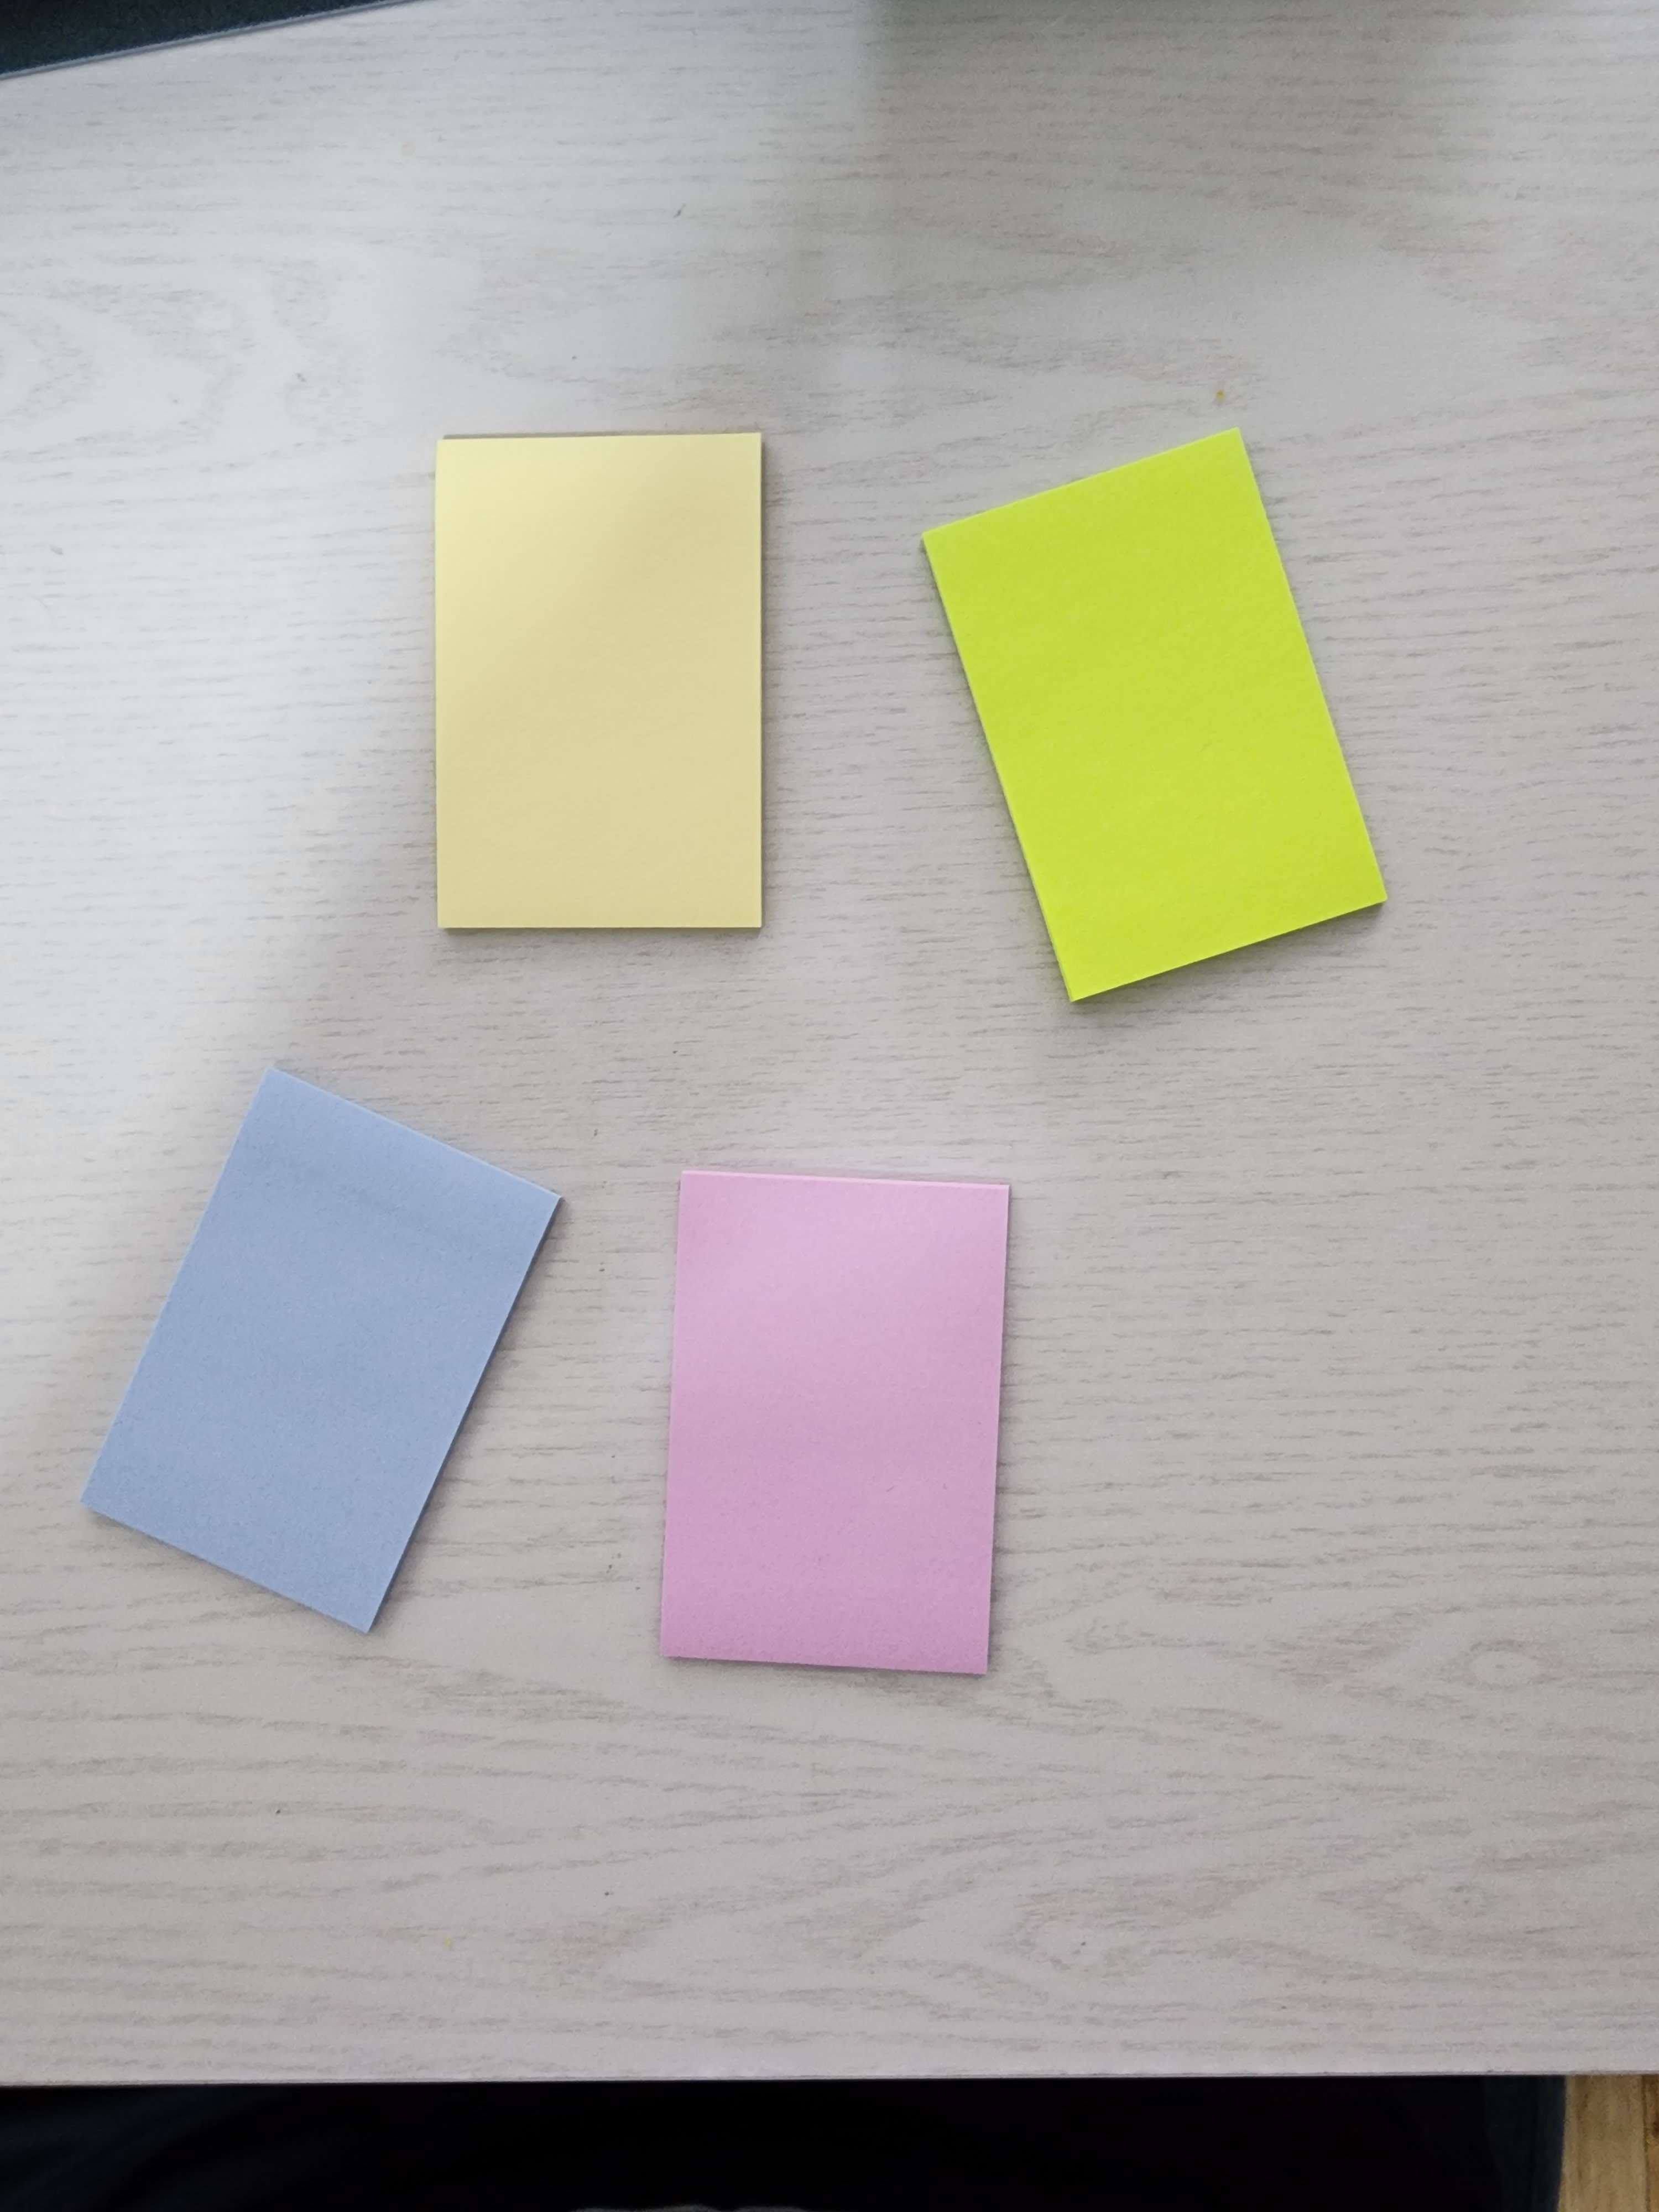stickynote: (890, 409, 1417, 1024), (64, 1047, 572, 1663), (640, 1143, 1021, 1714), (406, 406, 793, 960)
